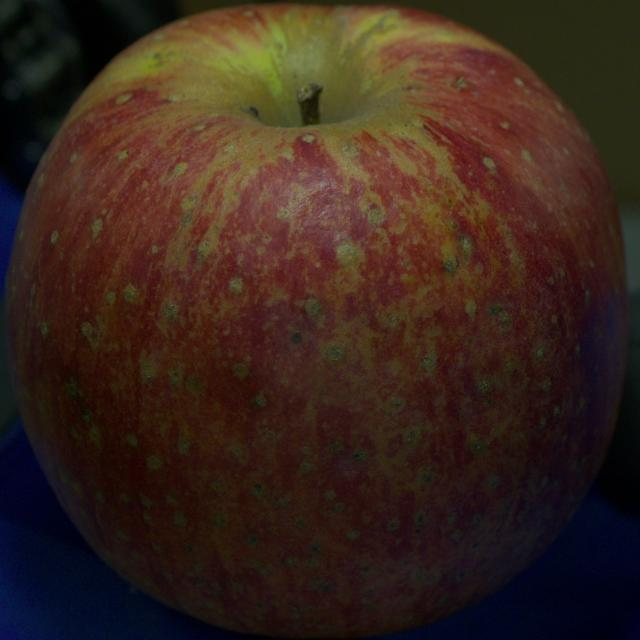apple: (7, 4, 627, 638)
pest: (489, 305, 509, 324), (444, 258, 457, 272), (292, 332, 302, 344), (249, 106, 258, 116)
